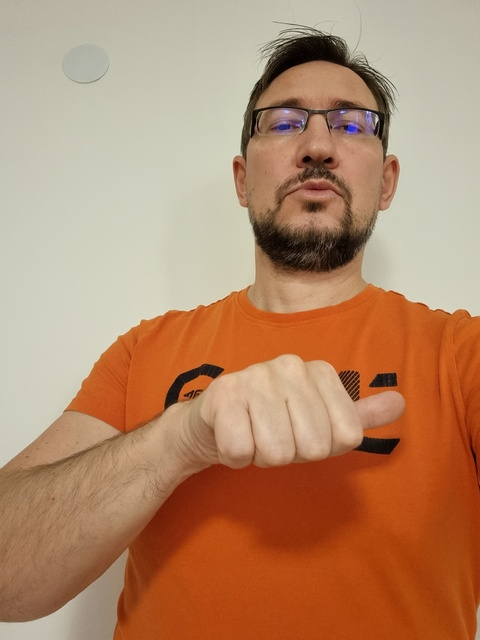GestBack: (215, 354, 400, 468)
